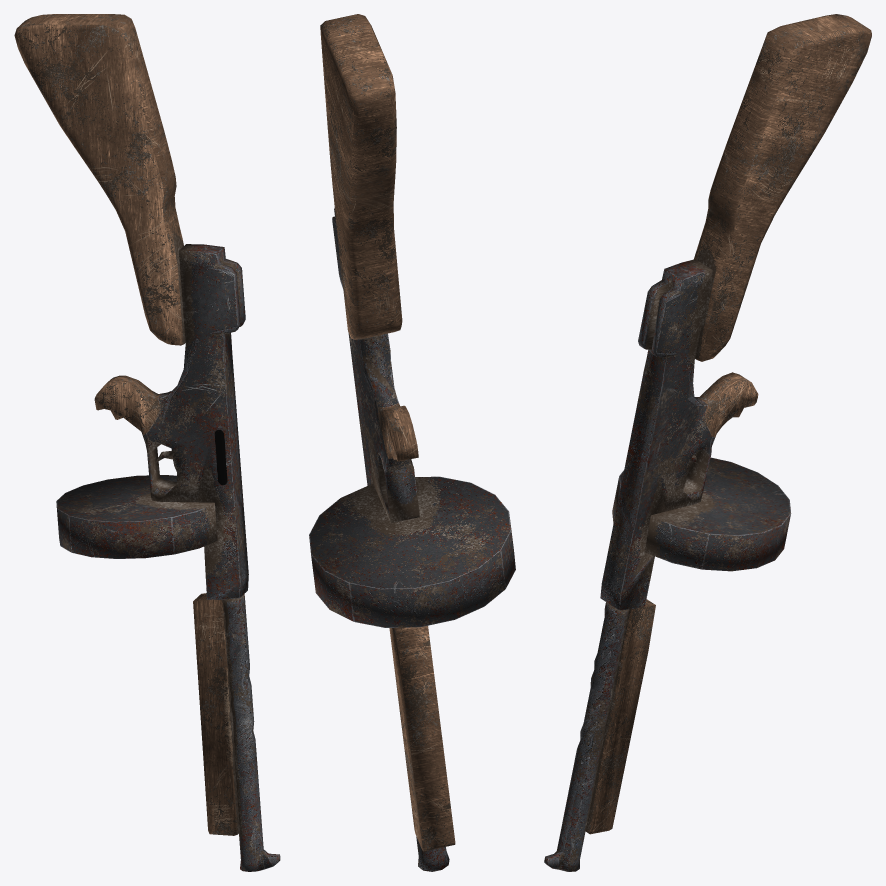
Rendered from Anim_idle_ametralladora_objetos.0051.obj.
3 renders of one model, left to right at view 1: azimuth 30°, elevation 25°; view 2: azimuth 150°, elevation 25°; view 3: azimuth 270°, elevation 25°, orthographic. The views are drawn at different scales.
Parts seen in each view (by area): view 1: Ametralladora1; view 2: Ametralladora1; view 3: Ametralladora1.
Boxes of the visible parts, bbox=[...] form: Ametralladora1: bbox=[14, 14, 280, 871]; Ametralladora1: bbox=[309, 14, 515, 871]; Ametralladora1: bbox=[544, 14, 871, 871].
Size of the model in its own units: 1.23 by 5.88 by 2.14.
